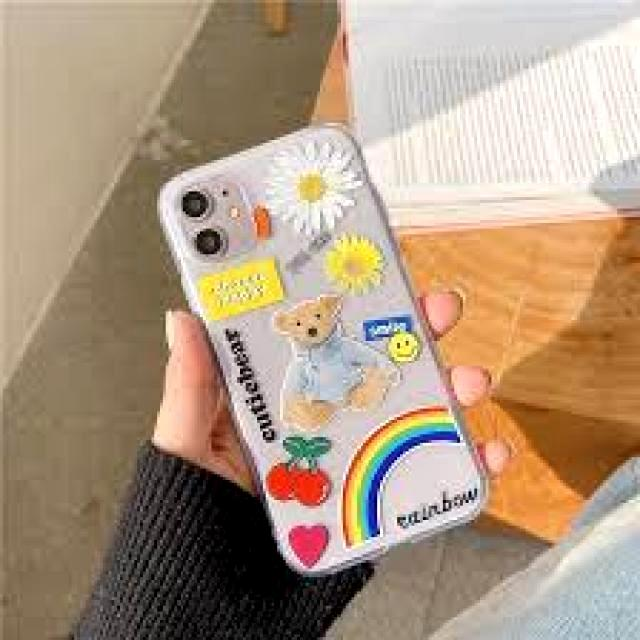lens_back: (177, 185, 214, 224), (190, 225, 229, 262)
phone: (157, 121, 493, 580)
